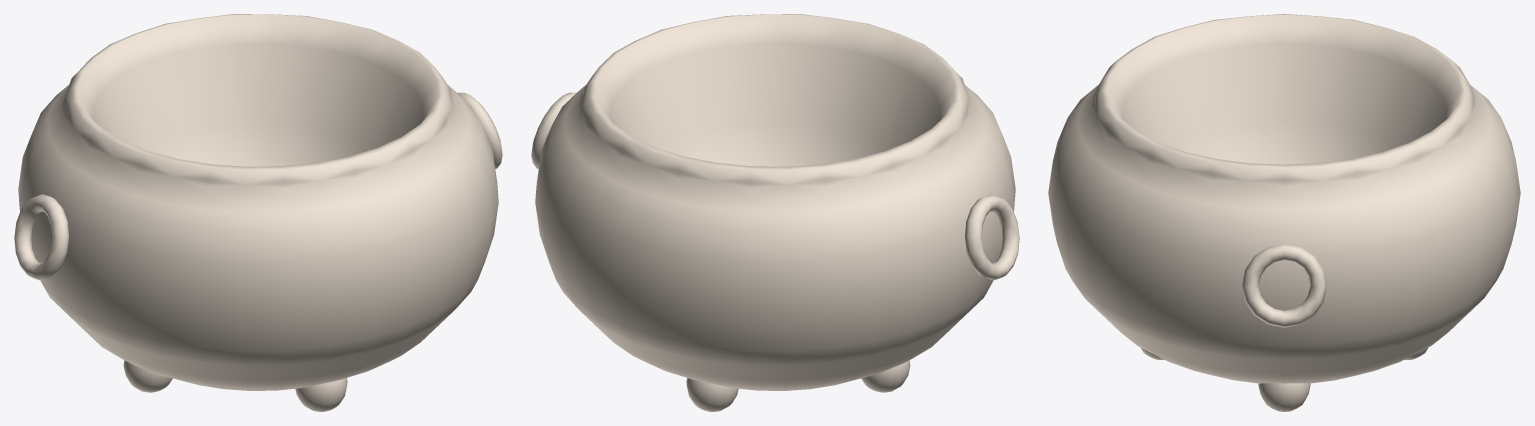
File: cauldron.glb
3 views of the same model, side by side, from view 1: azimuth 30°, elevation 25°; view 2: azimuth 150°, elevation 25°; view 3: azimuth 270°, elevation 25° (orthographic).
Visible parts, largest first — view 1: bowl, handle1, foot2, foot1, handle2; view 2: bowl, handle1, foot3, foot1, handle2; view 3: bowl, handle2, foot4.
Boxes of the visible parts, <box> form: bowl: <box>18,14,498,390</box>; handle1: <box>14,194,68,280</box>; foot2: <box>295,378,347,411</box>; foot1: <box>123,360,172,392</box>; handle2: <box>457,92,502,168</box>; bowl: <box>535,14,1015,390</box>; handle1: <box>965,194,1019,280</box>; foot3: <box>686,378,738,411</box>; foot1: <box>861,360,910,392</box>; handle2: <box>531,92,576,168</box>; bowl: <box>1048,14,1520,383</box>; handle2: <box>1242,243,1326,327</box>; foot4: <box>1258,383,1310,411</box>.
Bounding box in the file's own units: 2.14 × 1.21 × 1.92.
